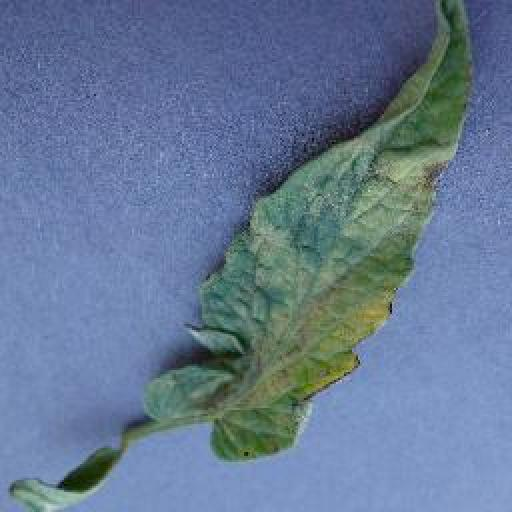disease_tomato: (147, 0, 475, 462)
